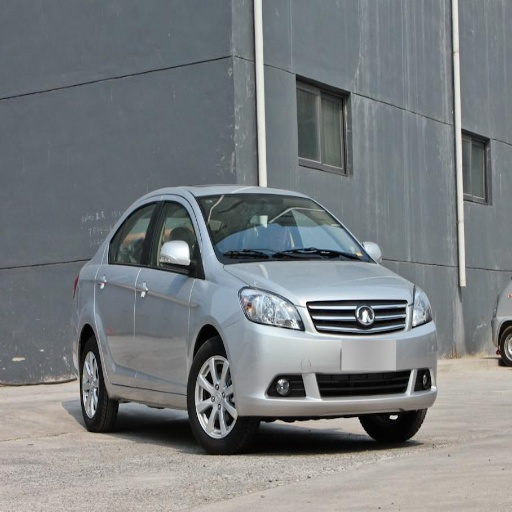front_bumper: (226, 295, 439, 418)
front_right_door: (135, 196, 199, 391)
front_right_light: (239, 287, 304, 331)
hood: (228, 260, 413, 303)
